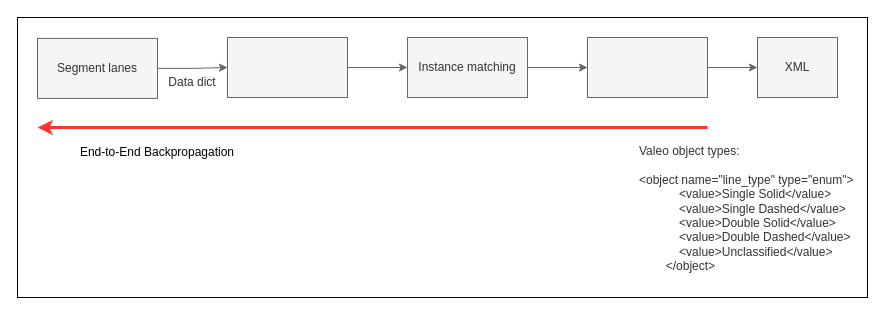
Some shapes in this 885 by 315 pixel diagram are drawn without their labels. The shapes that lost their labels are listed below. From the top down, each one's centre as x and y in pixels, then its label:
point (287, 67): Instance Segmentation
point (647, 67): Classification
